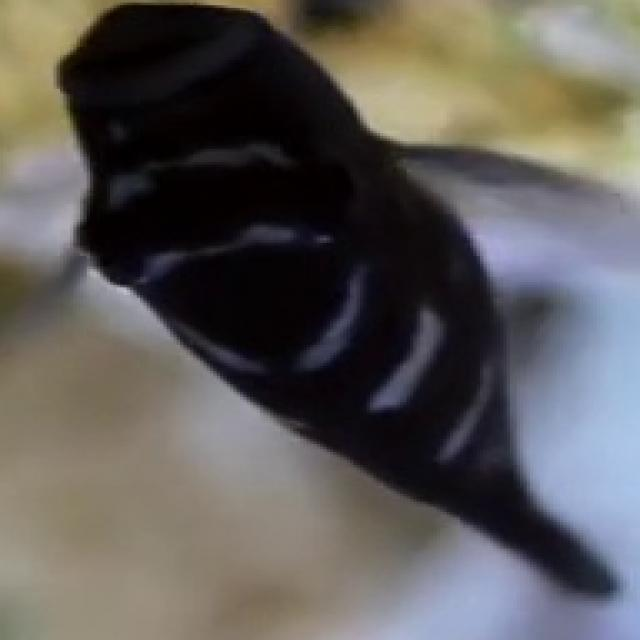fish: (3, 0, 639, 638)
